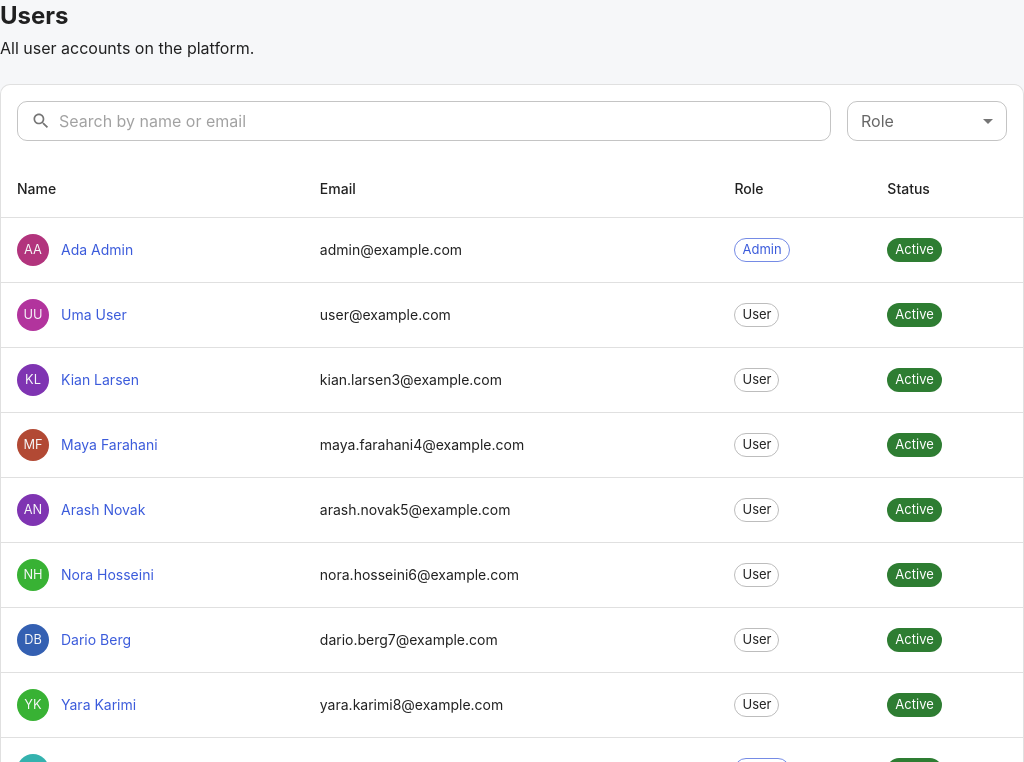
Test: users feature › lists users and filters them by search term
Type "user@example" into the field named "Search users" at (445, 121), box [59,101,831,141]
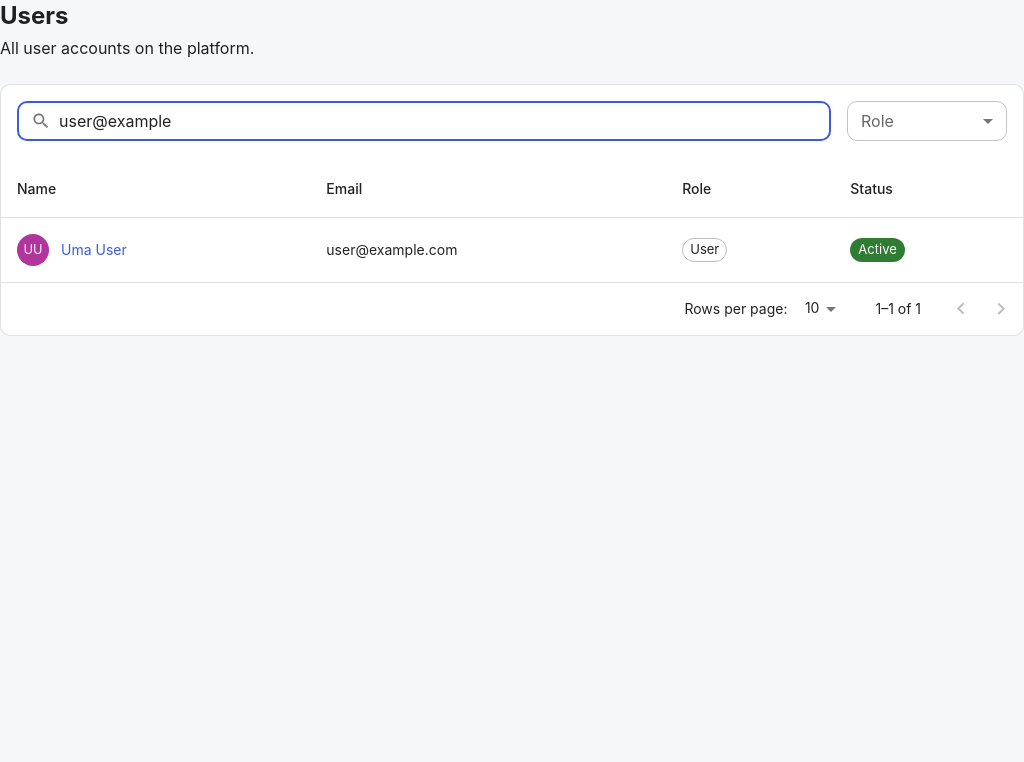
Expected: the link "Uma User" is shown, [61,240,127,260]
Expected: the number of rows is 2, [1,161,1023,218]; [1,218,1023,282]
